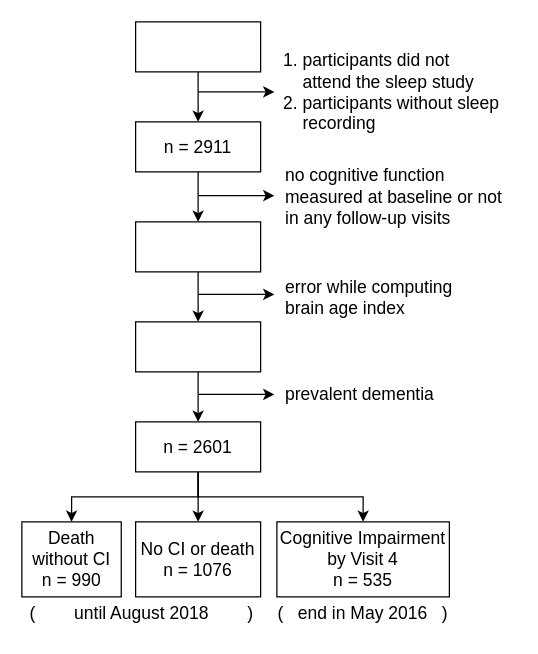
Some shapes in this 538 by 654 pixel diagram are drawn without their labels. The box of each missing label's shape, as (x1, y1, x2, y2) in pixels:
n = 2717: (134, 321, 261, 372)
n = 2763: (134, 221, 261, 272)
n = 5994 at baseline: (134, 21, 261, 72)
